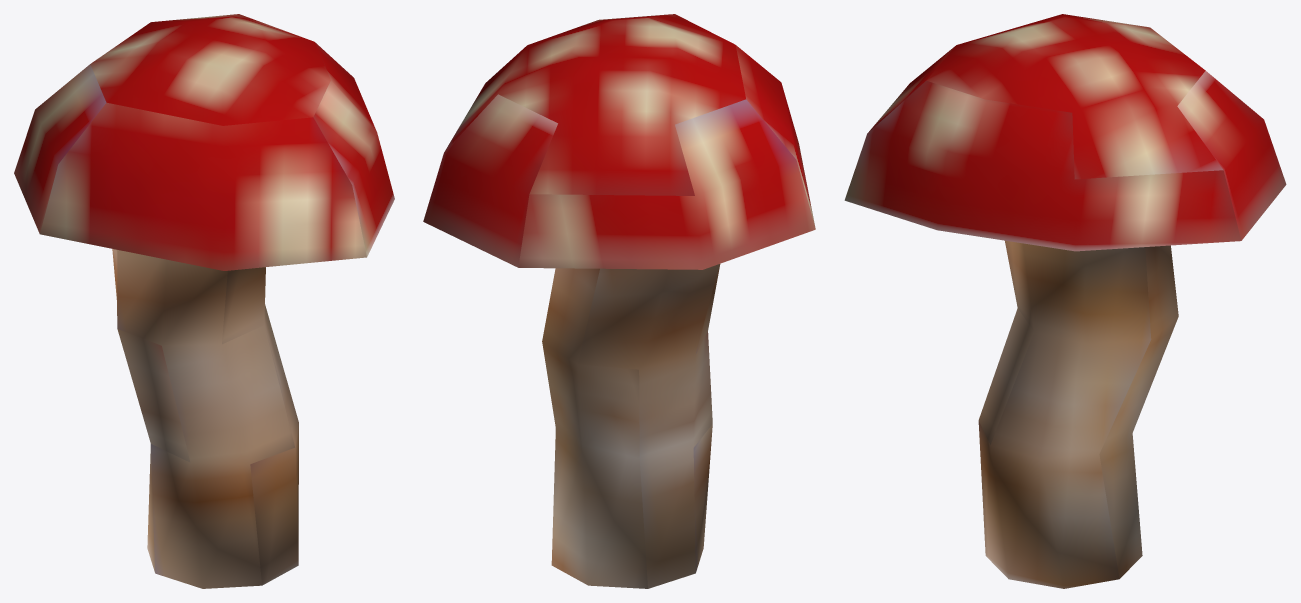
The model's file is Mushroom.fbx.
The picture shows the model from 3 angles, left to right: view 1: azimuth 30°, elevation 25°; view 2: azimuth 150°, elevation 25°; view 3: azimuth 270°, elevation 25°; orthographic projection.
Visible parts, largest first — view 1: crooked_mushroom; view 2: crooked_mushroom; view 3: crooked_mushroom.
Boxes of the visible parts, x1=… form: crooked_mushroom: x1=14, y1=14, x2=394, y2=588; crooked_mushroom: x1=423, y1=14, x2=815, y2=588; crooked_mushroom: x1=844, y1=14, x2=1286, y2=588.
Bounding box in the file's own units: 0.173 × 0.2524 × 0.1961.
